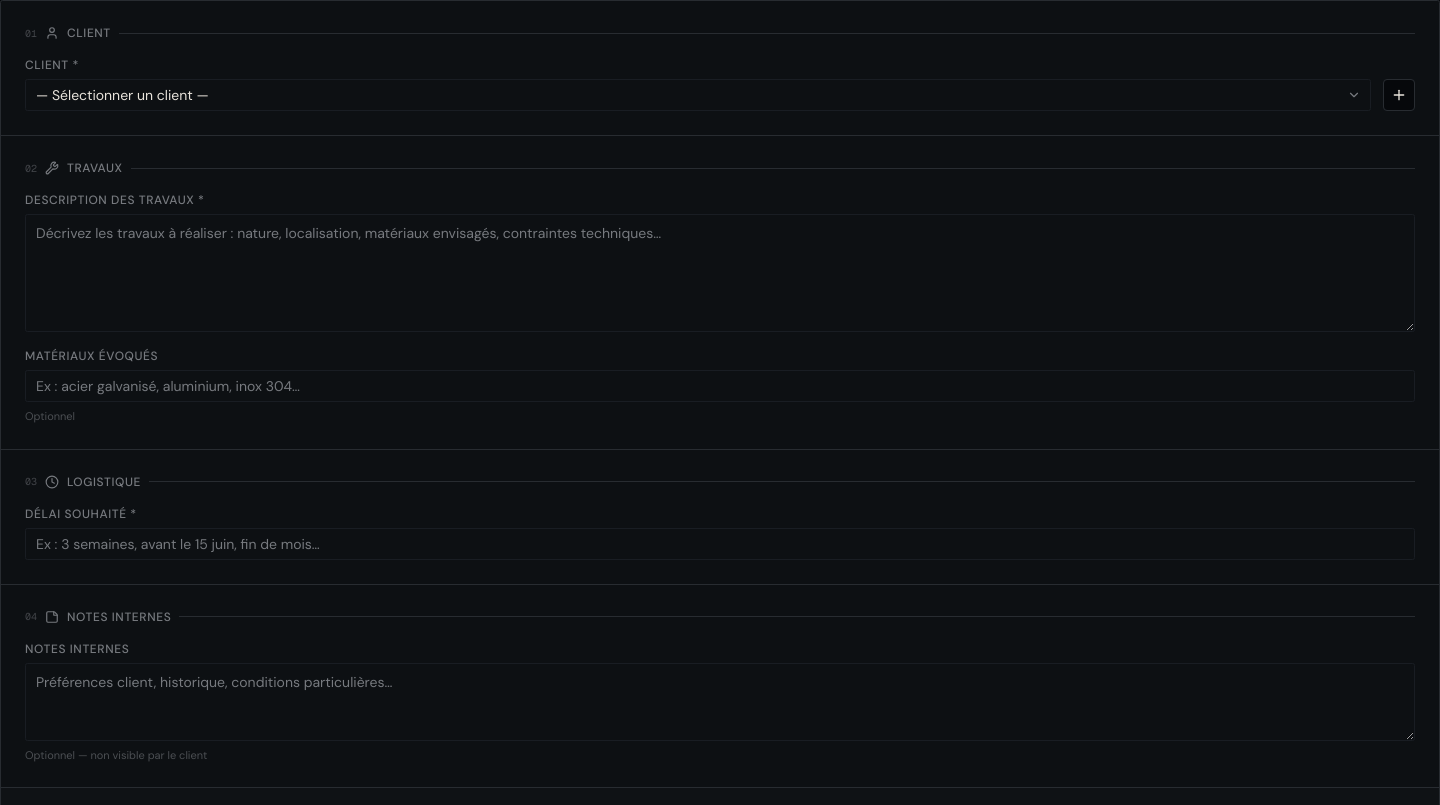
Test: QuoteRequestForm › validates required name in the client creation dialog
Click the button titled "Créer un nouveau client" at (1399, 95), box [1383, 79, 1415, 111]
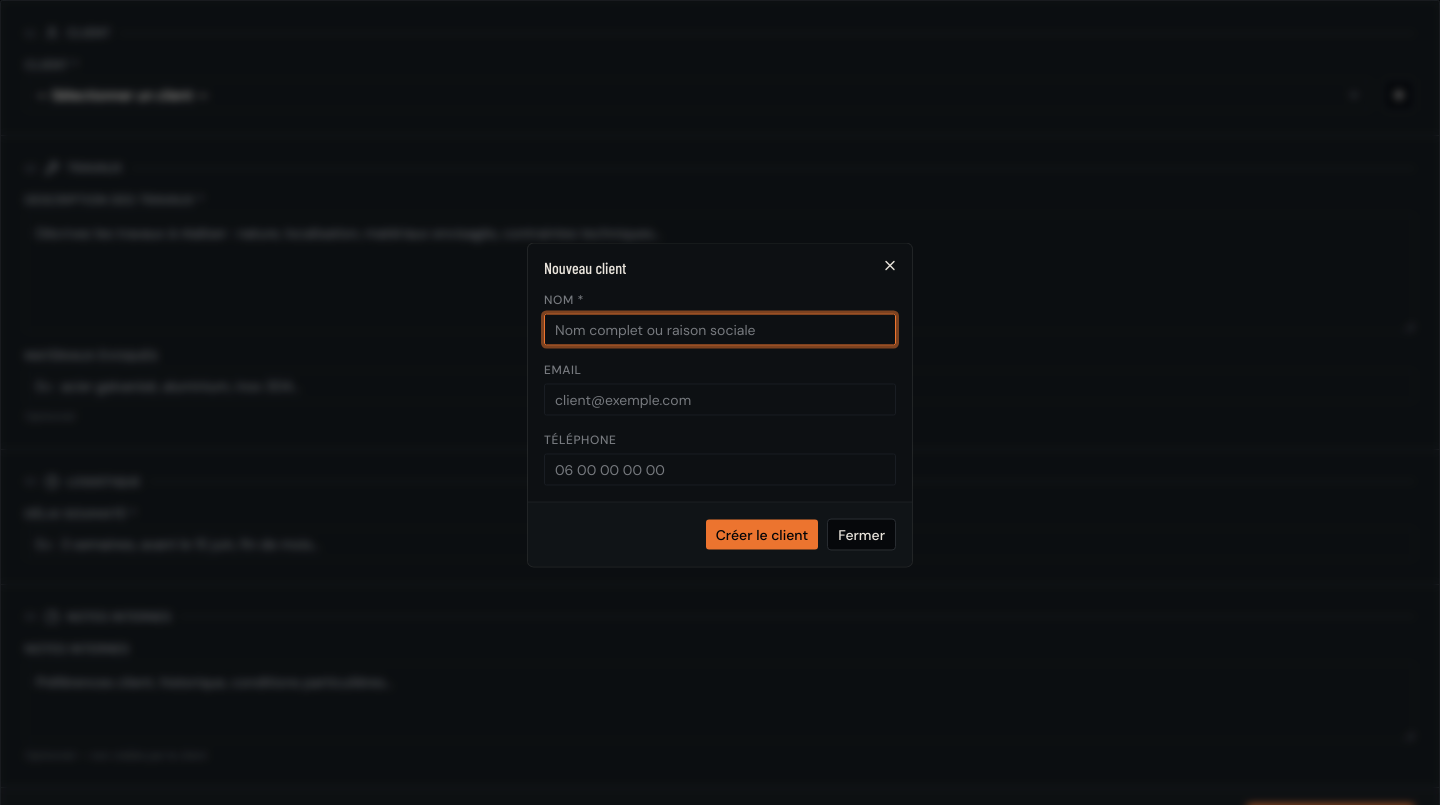
Click the button "Créer le client" at (762, 534), box [705, 518, 819, 550]
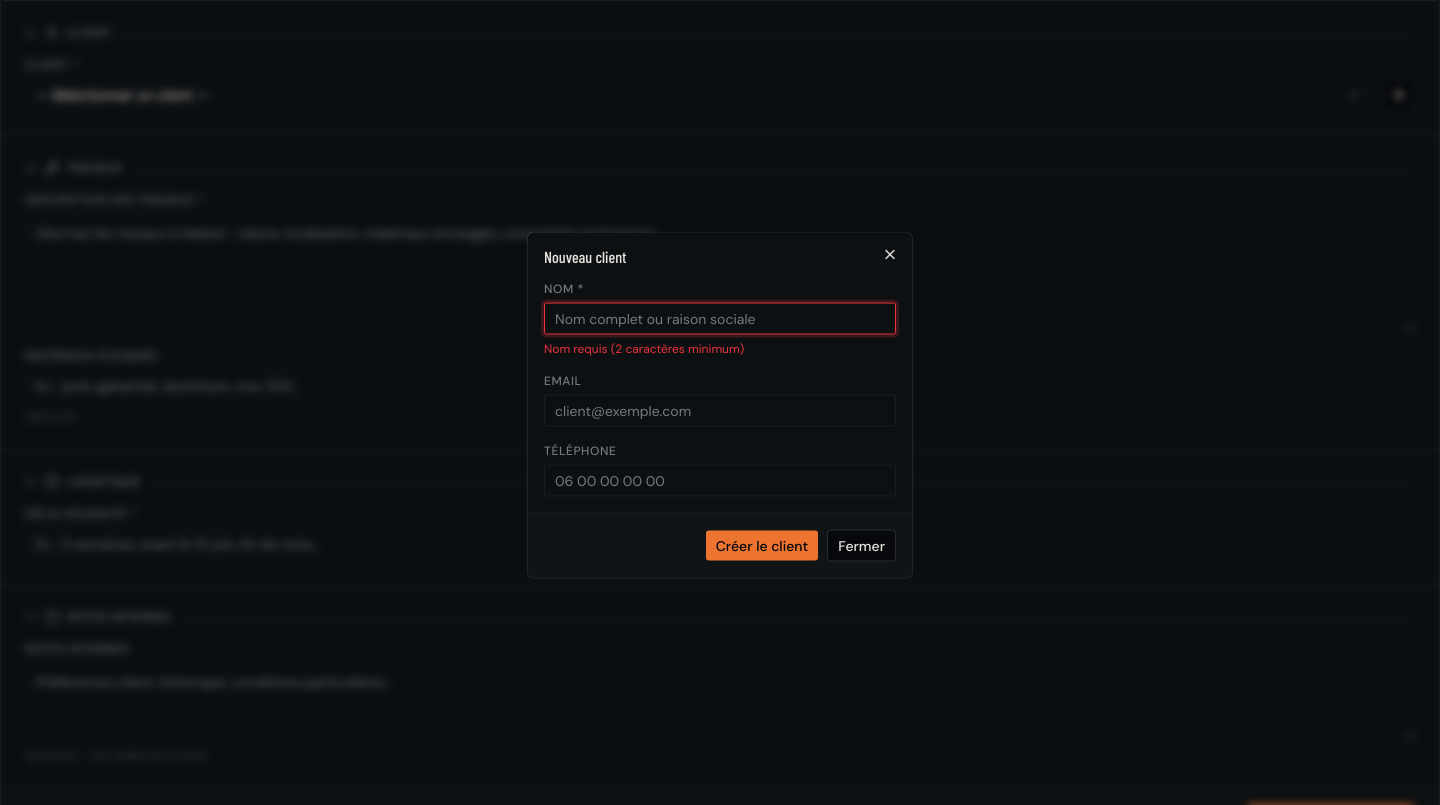
Check: the text "Nom requis (2 caractères minimum)" is shown, box [544, 340, 744, 356]
